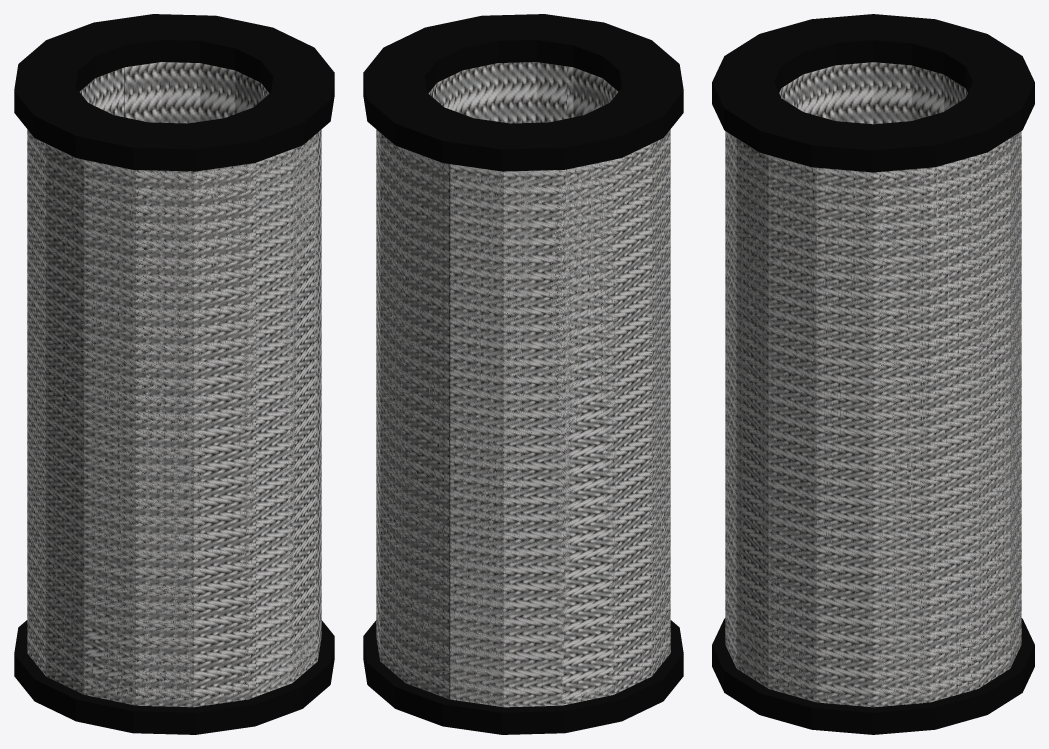
File: tikitown_filter.fbx
The picture shows the model from 3 angles, left to right: view 1: azimuth 30°, elevation 25°; view 2: azimuth 150°, elevation 25°; view 3: azimuth 270°, elevation 25°; orthographic projection.
Visible parts, largest first — view 1: Cylinder; view 2: Cylinder; view 3: Cylinder.
Part boxes in pixels (<box>): Cylinder: <box>14,14,334,734</box>; Cylinder: <box>363,14,683,734</box>; Cylinder: <box>712,14,1034,734</box>.
Size of the model in its own units: 0.1841 by 0.3677 by 0.1841.
